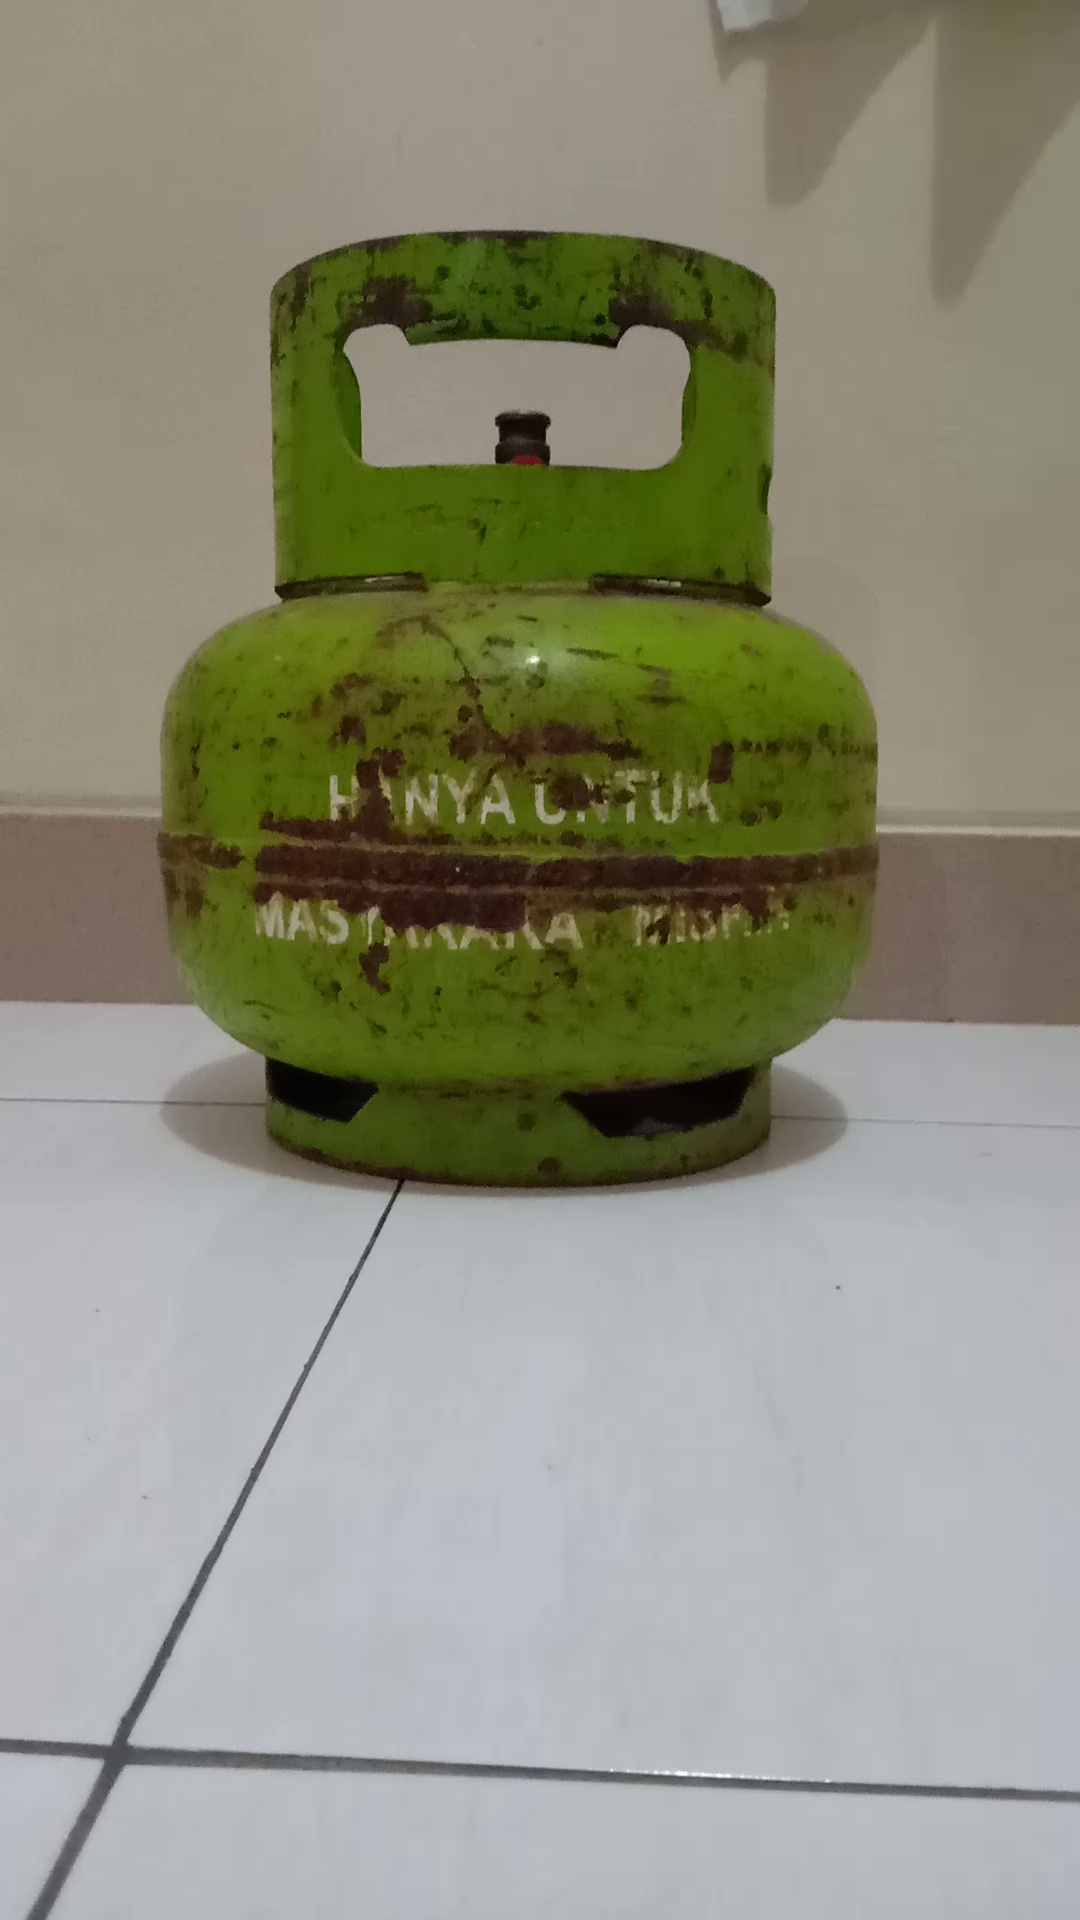gas_ijo: (160, 231, 882, 1199)
